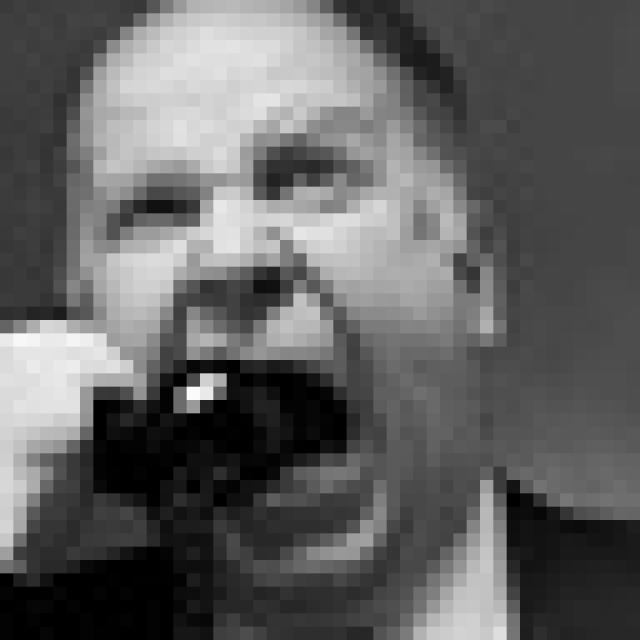angry: (93, 102, 386, 510)
